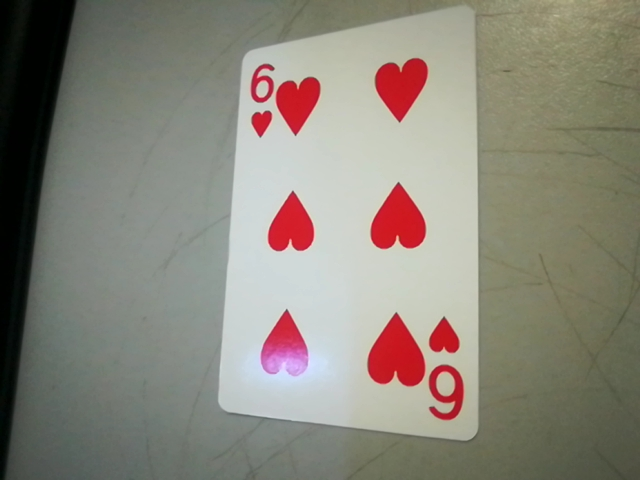hx 6: (427, 310, 476, 430)
